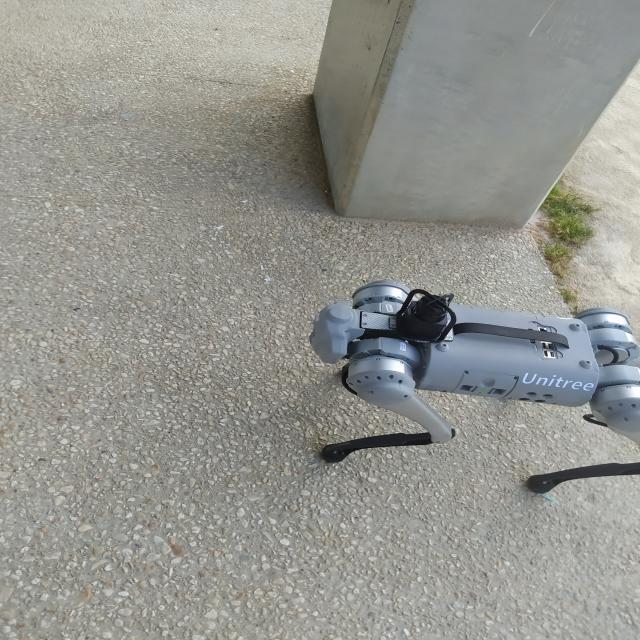unitree-go1-robot: (293, 265, 640, 522)
